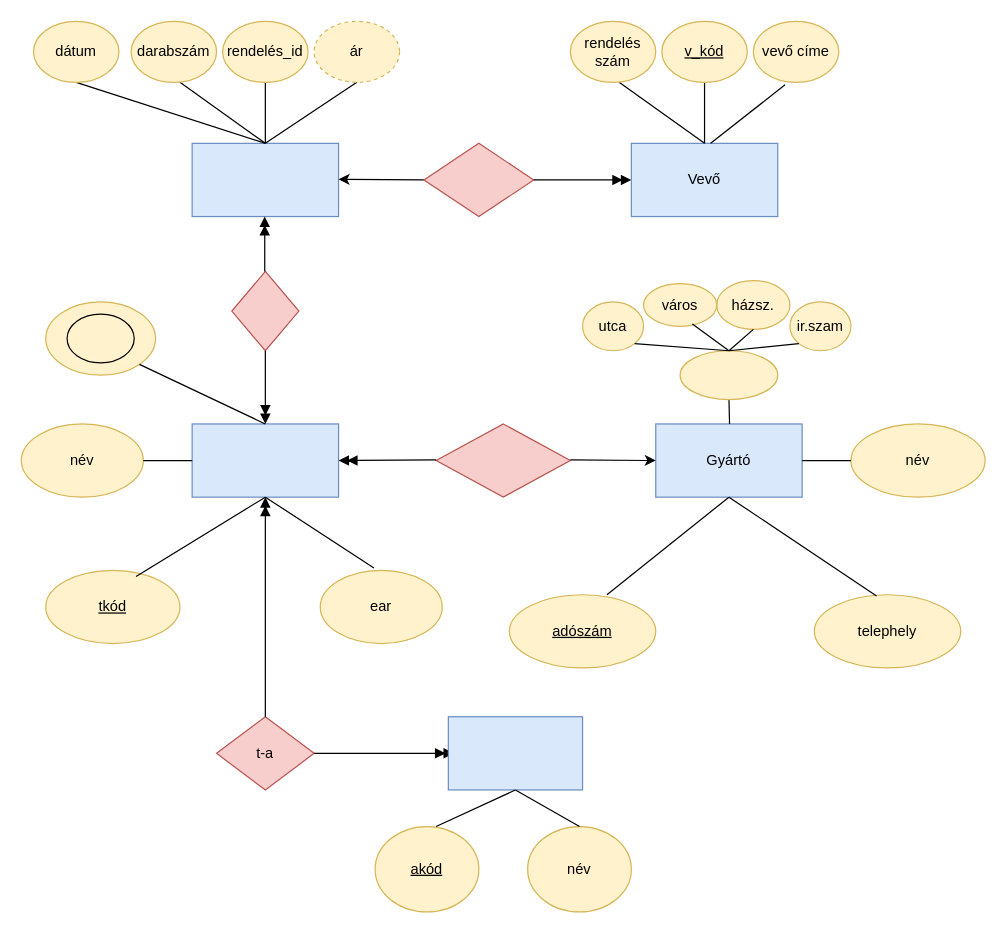
Some shapes in this 1007 by 933 pixel diagram are drawn without their labels. Here are the shapes that lost their labels. From the top down, the centre of each, then its label:
At [265,179]: "Rendelés".
At [478,179]: "r-v".
At [100,338]: "csomag db".
At [728,375]: "postai cím".
At [265,460]: "Termék".
At [502,460]: "t-gy".
At [515,753]: "Alkatrész".
